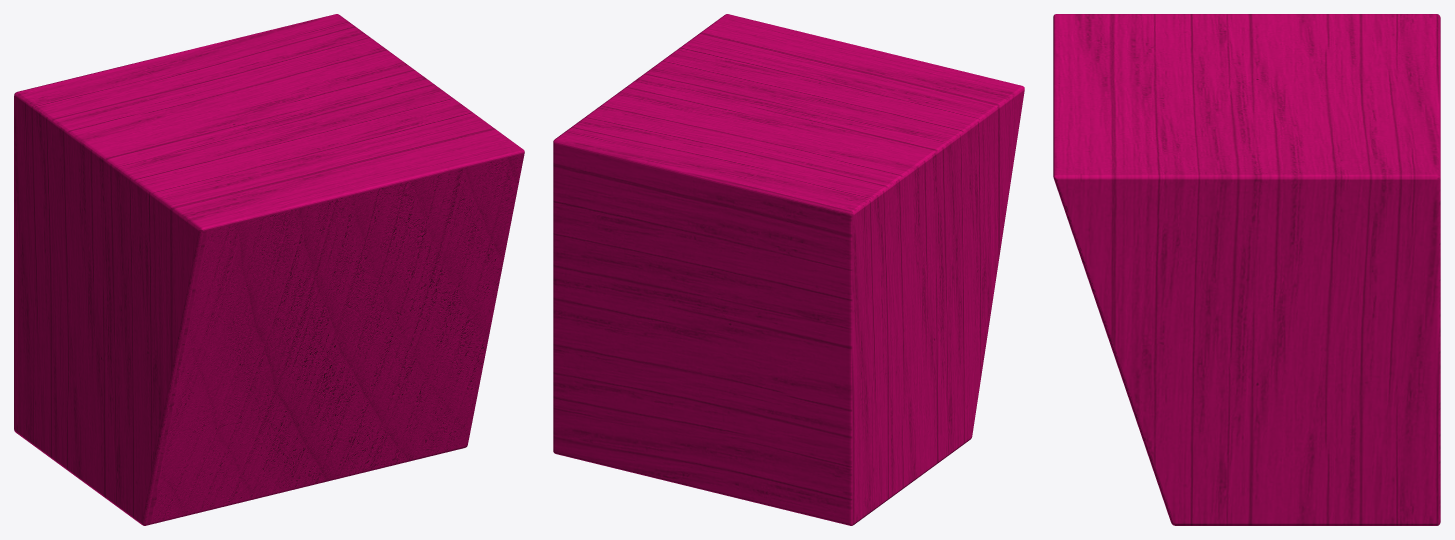
Rendered from cubo2.glb.
3 renders of one model, left to right at view 1: azimuth 30°, elevation 25°; view 2: azimuth 150°, elevation 25°; view 3: azimuth 270°, elevation 25°, orthographic. The views are drawn at different scales.
Visible parts, largest first — view 1: Cubo optimizado 1.2; view 2: Cubo optimizado 1.2; view 3: Cubo optimizado 1.2.
Boxes of the visible parts, box(x1,y1,x2,y2) form: Cubo optimizado 1.2: box(14, 14, 524, 525); Cubo optimizado 1.2: box(553, 14, 1024, 525); Cubo optimizado 1.2: box(1053, 14, 1440, 525).
Size of the model in its own units: 2 by 2 by 2.
Materials: 1 (1 with a texture image).
